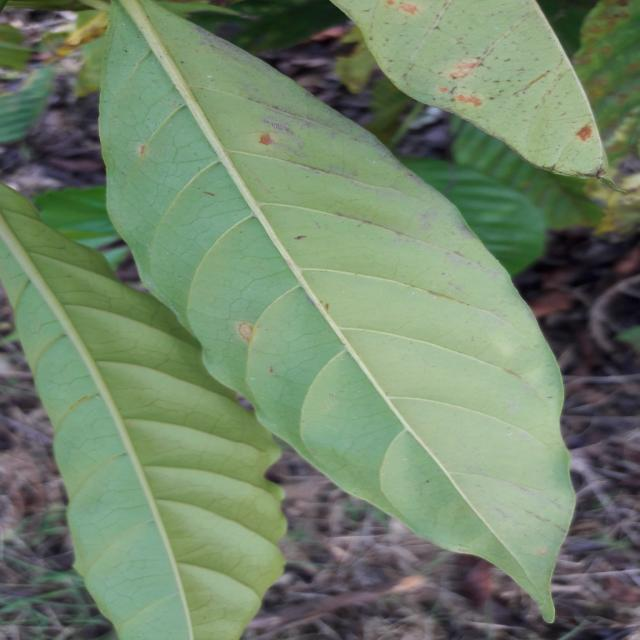Enfermedad-Roya: (96, 0, 577, 625)
